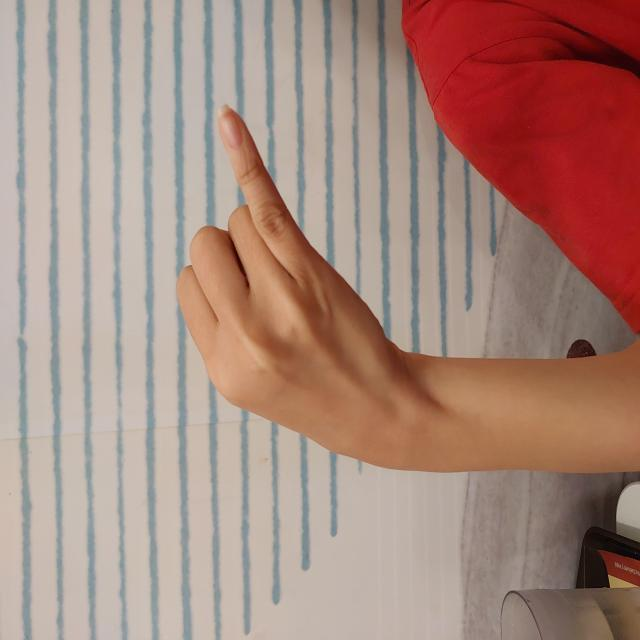J: (187, 174, 539, 408)
